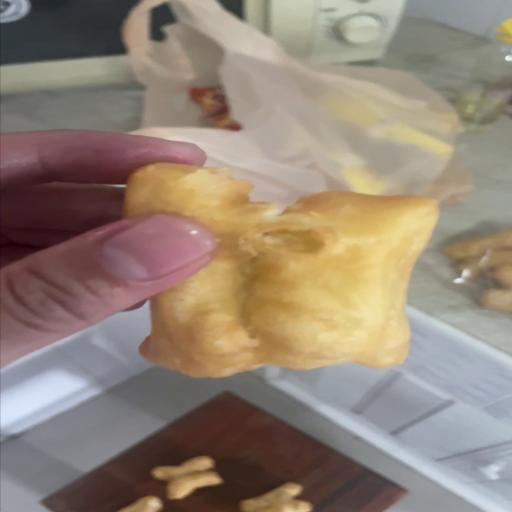street_golden_defect: (129, 164, 437, 376)
